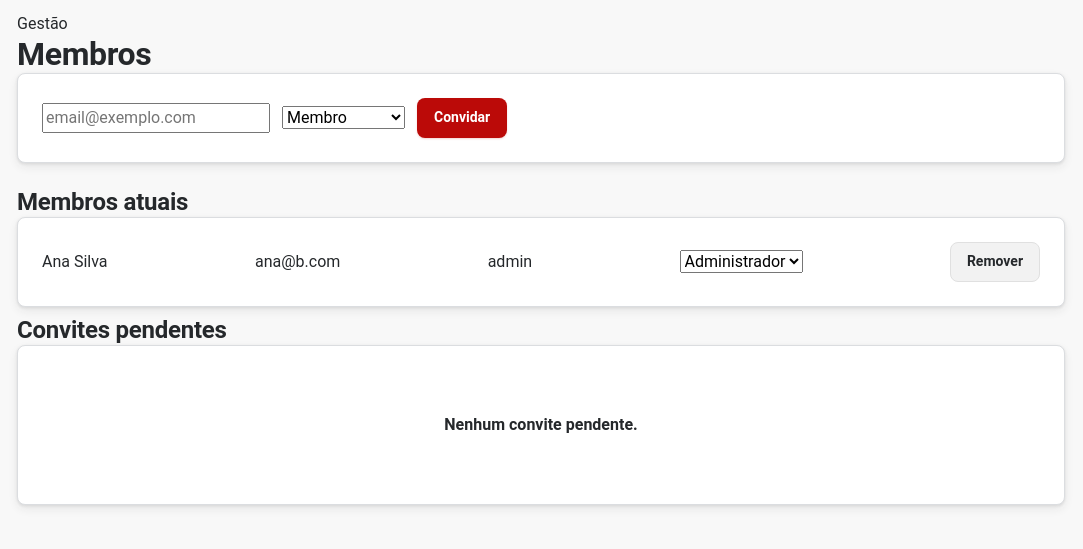
Test: Members › mostra sempre a mesma mensagem de sucesso, nunca distingue o resultado do convite
The image size is (1083, 549).
Step 1. Type "novo@b.com" into the field with test id "invite-email-input" → (156, 118), box [42, 103, 270, 133]
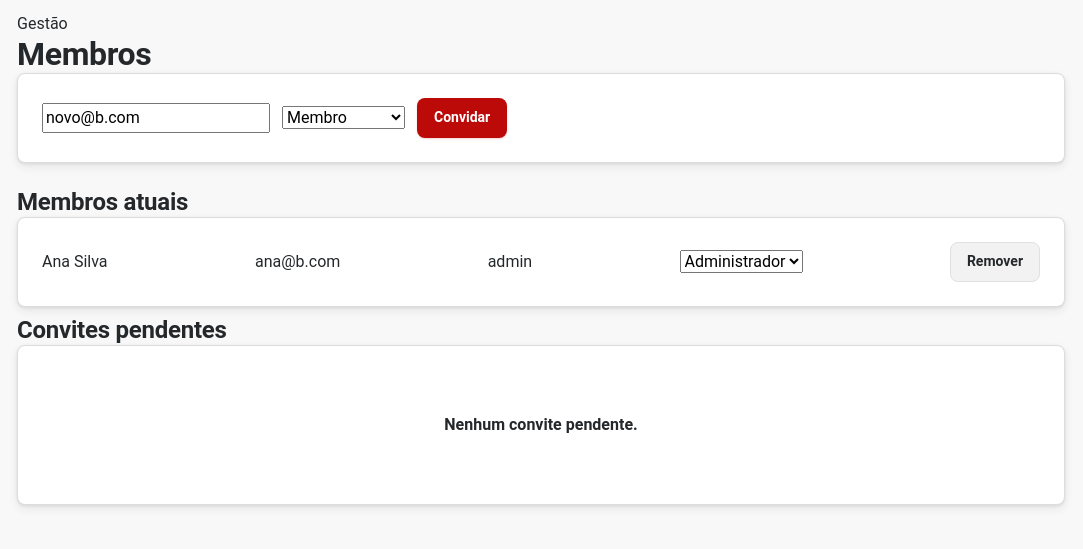
Step 2. Submit the form with test id "invite-form", box [17, 73, 1065, 163]
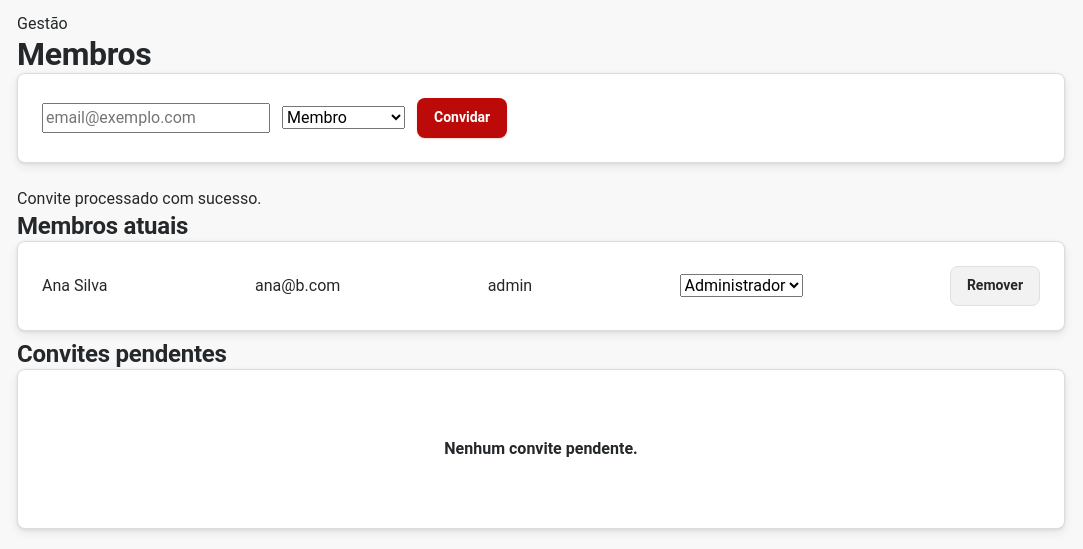
expect the text with test id "invite-feedback" reads "Convite processado com sucesso.": met, box [17, 189, 262, 208]
